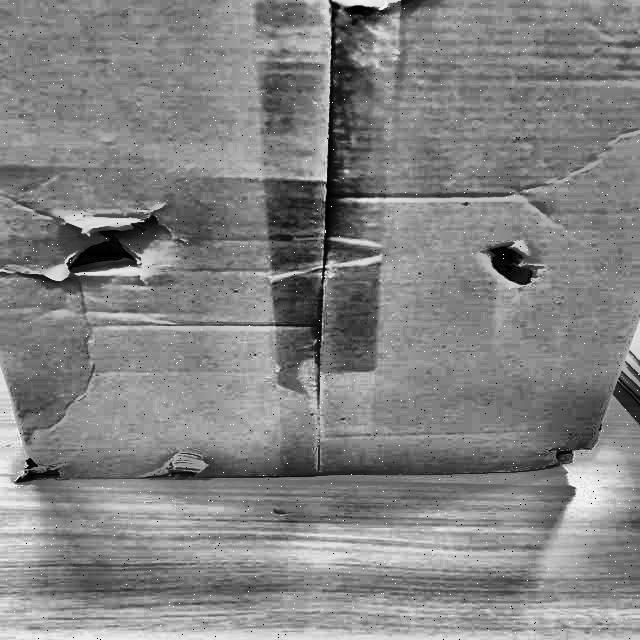box: (1, 0, 640, 487)
hole: (43, 214, 163, 284), (473, 235, 545, 291)
